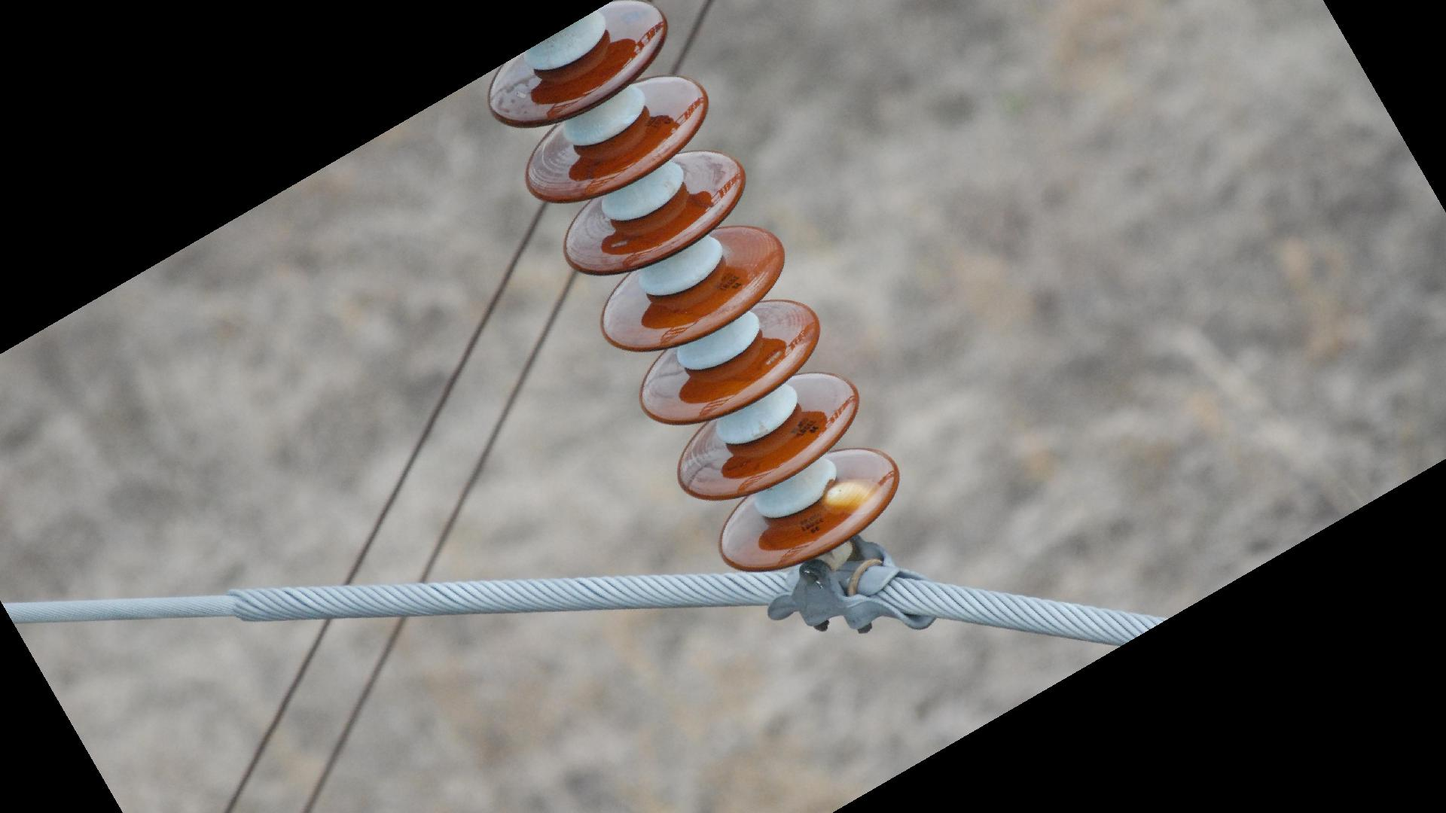insulator: (482, 1, 908, 580)
insulator_flashover: (820, 476, 886, 518)
